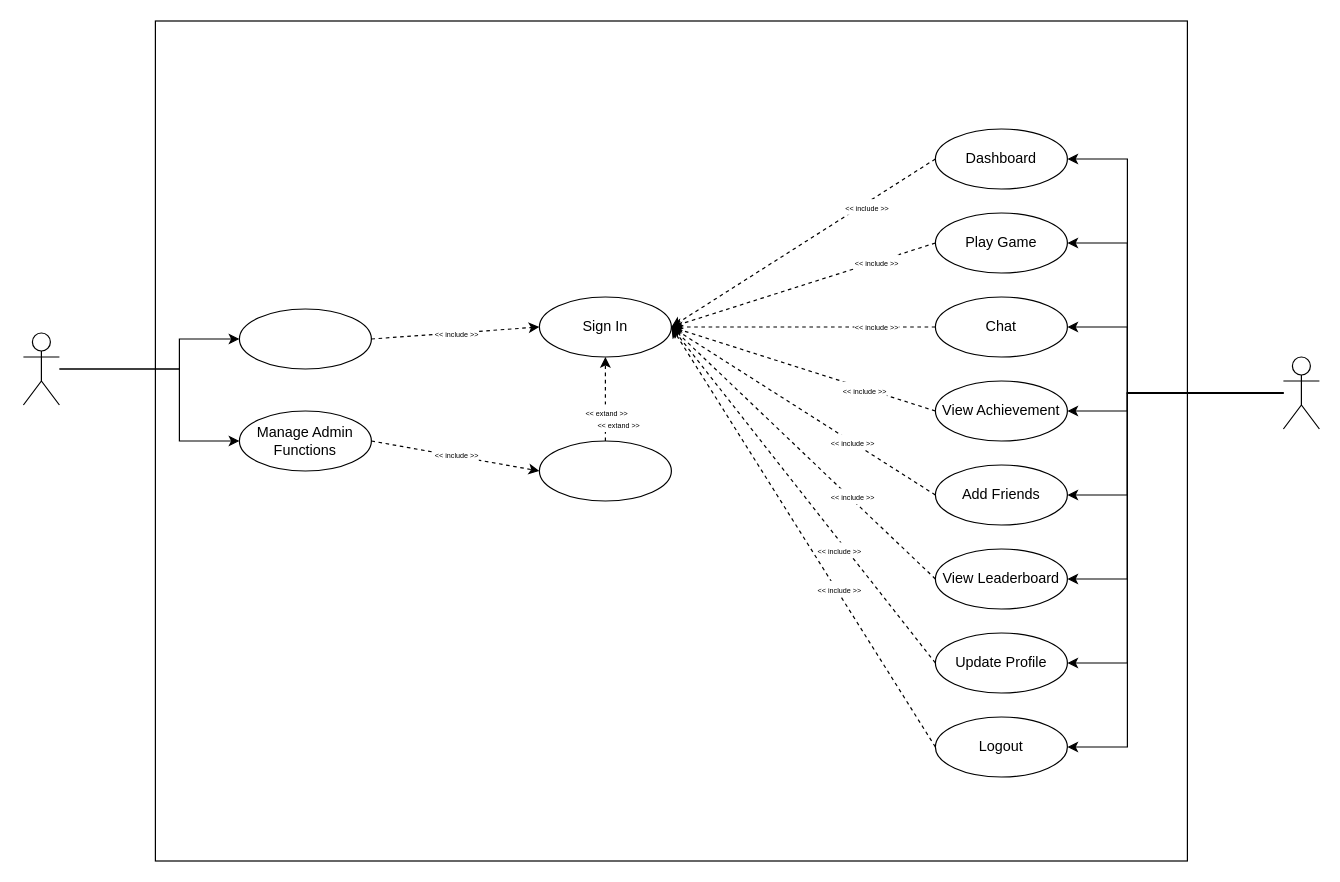
This 1340x882 diagram has some shape labels left out. The shapes that lost their labels are listed below. From the top down, each one's centre as x and y in pixels, then its label:
At [304,338]: "Manage User Accounts".
At [40,368]: "Admin".
At [1300,392]: "User".
At [604,470]: "Sign Up".
